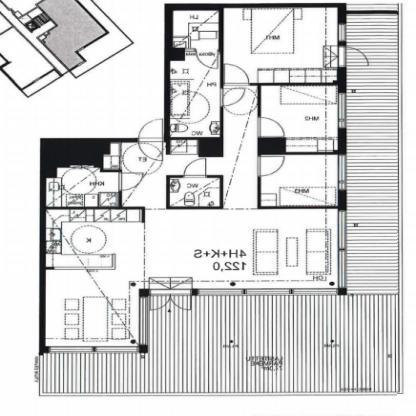door: (144, 284, 203, 314), (133, 117, 170, 149), (250, 152, 290, 177), (251, 114, 288, 138), (110, 168, 149, 190), (216, 62, 254, 84), (134, 137, 166, 161), (178, 157, 210, 180), (215, 86, 247, 106)
window: (40, 339, 145, 359), (195, 284, 341, 298), (334, 206, 354, 298), (335, 248, 352, 293), (333, 148, 351, 190), (335, 89, 353, 130), (290, 285, 342, 299), (42, 341, 94, 355), (334, 207, 351, 248), (93, 343, 141, 357), (244, 286, 292, 298), (334, 21, 354, 43), (195, 288, 245, 296)
